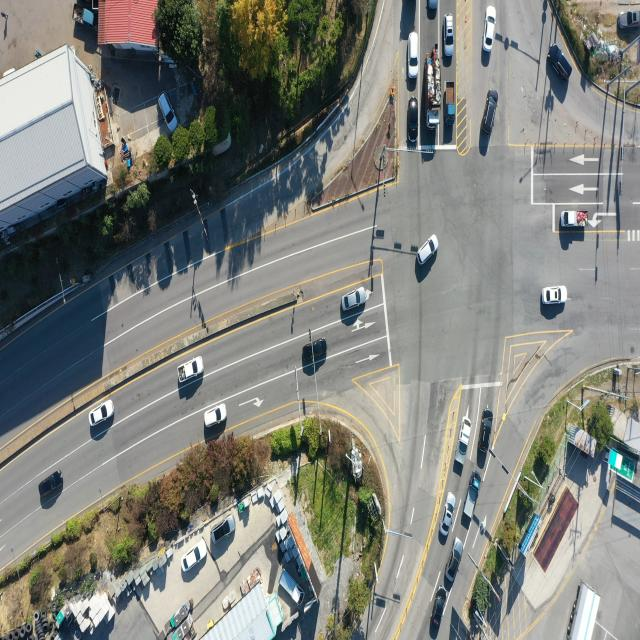car: (444, 540, 462, 585), (184, 542, 208, 574), (481, 91, 500, 130), (551, 43, 571, 80), (177, 356, 203, 384), (480, 410, 495, 458), (158, 94, 176, 134), (442, 493, 458, 537), (303, 340, 329, 366), (90, 401, 115, 428), (212, 518, 235, 547), (342, 286, 367, 312), (40, 472, 64, 499), (417, 235, 437, 267), (433, 586, 448, 627), (205, 405, 227, 429), (485, 8, 496, 52), (410, 32, 420, 78), (542, 285, 566, 304), (409, 98, 419, 142), (618, 9, 640, 28), (445, 15, 455, 56)
medium_truck: (564, 584, 600, 640), (425, 56, 440, 130)
small_truck: (462, 470, 482, 522), (453, 414, 472, 466), (277, 570, 306, 603), (70, 4, 96, 30), (446, 82, 458, 127), (561, 210, 589, 229)
